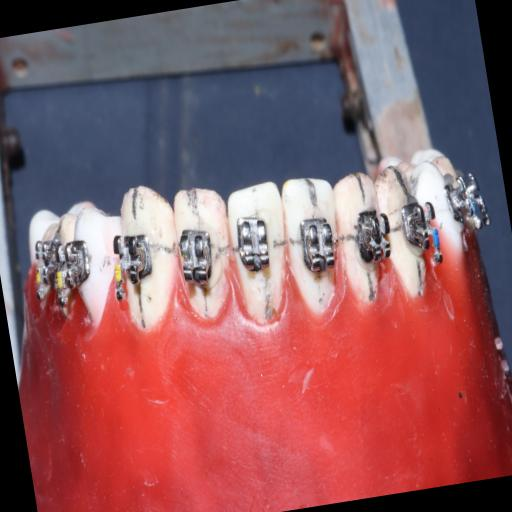incorrect_brace: (230, 210, 284, 278)
